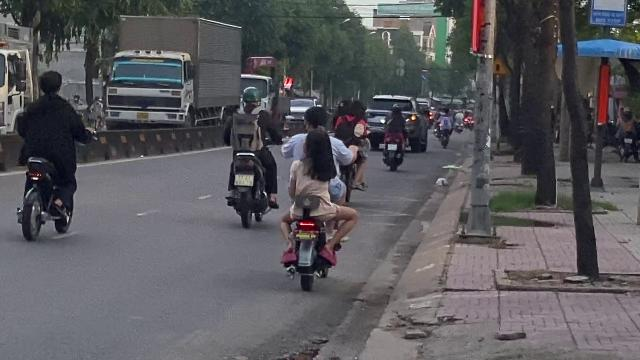helmet: (240, 86, 262, 108)
licenseplate: (235, 174, 253, 185)
motorcyclist: (276, 99, 362, 293), (10, 68, 90, 242), (220, 84, 280, 226)
nohelmet: (300, 130, 334, 170), (303, 105, 331, 132), (36, 70, 64, 96)
